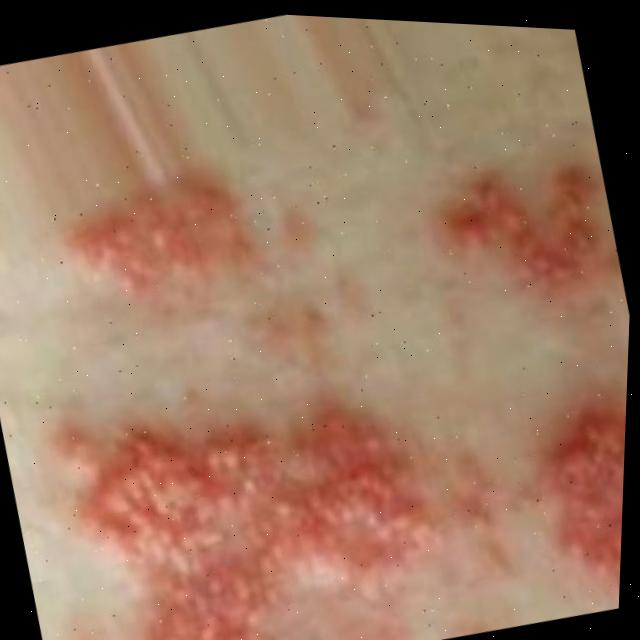Shingles: (48, 300, 629, 640), (439, 155, 621, 326), (64, 172, 271, 319)
